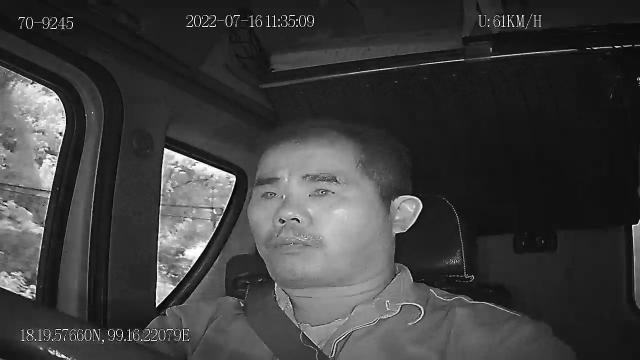SafeDriving: (300, 178, 344, 202), (254, 182, 288, 204)
Seatbelt: (240, 280, 332, 360)
